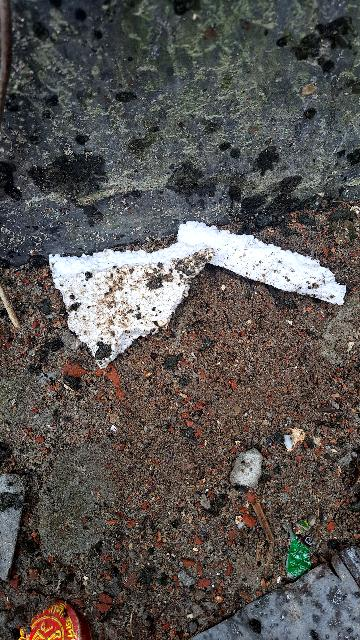cocksheet: (42, 178, 357, 373)
